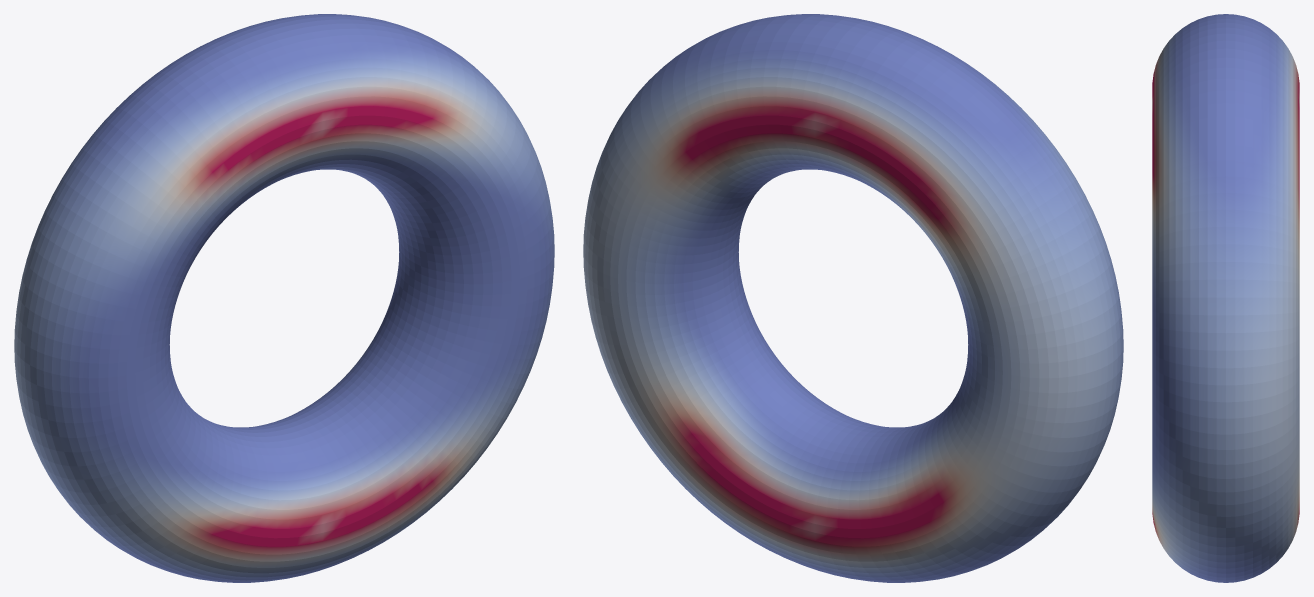
3 views of the same model, side by side, from view 1: azimuth 30°, elevation 25°; view 2: azimuth 150°, elevation 25°; view 3: azimuth 270°, elevation 25° (orthographic). The views are drawn at different scales.
Parts seen in each view (by area): view 1: world; view 2: world; view 3: world.
Boxes of the visible parts, <box> form: world: <box>14,14,554,582</box>; world: <box>583,14,1123,582</box>; world: <box>1152,14,1299,582</box>.
Size of the model in its own units: 18 by 18 by 4.66.
